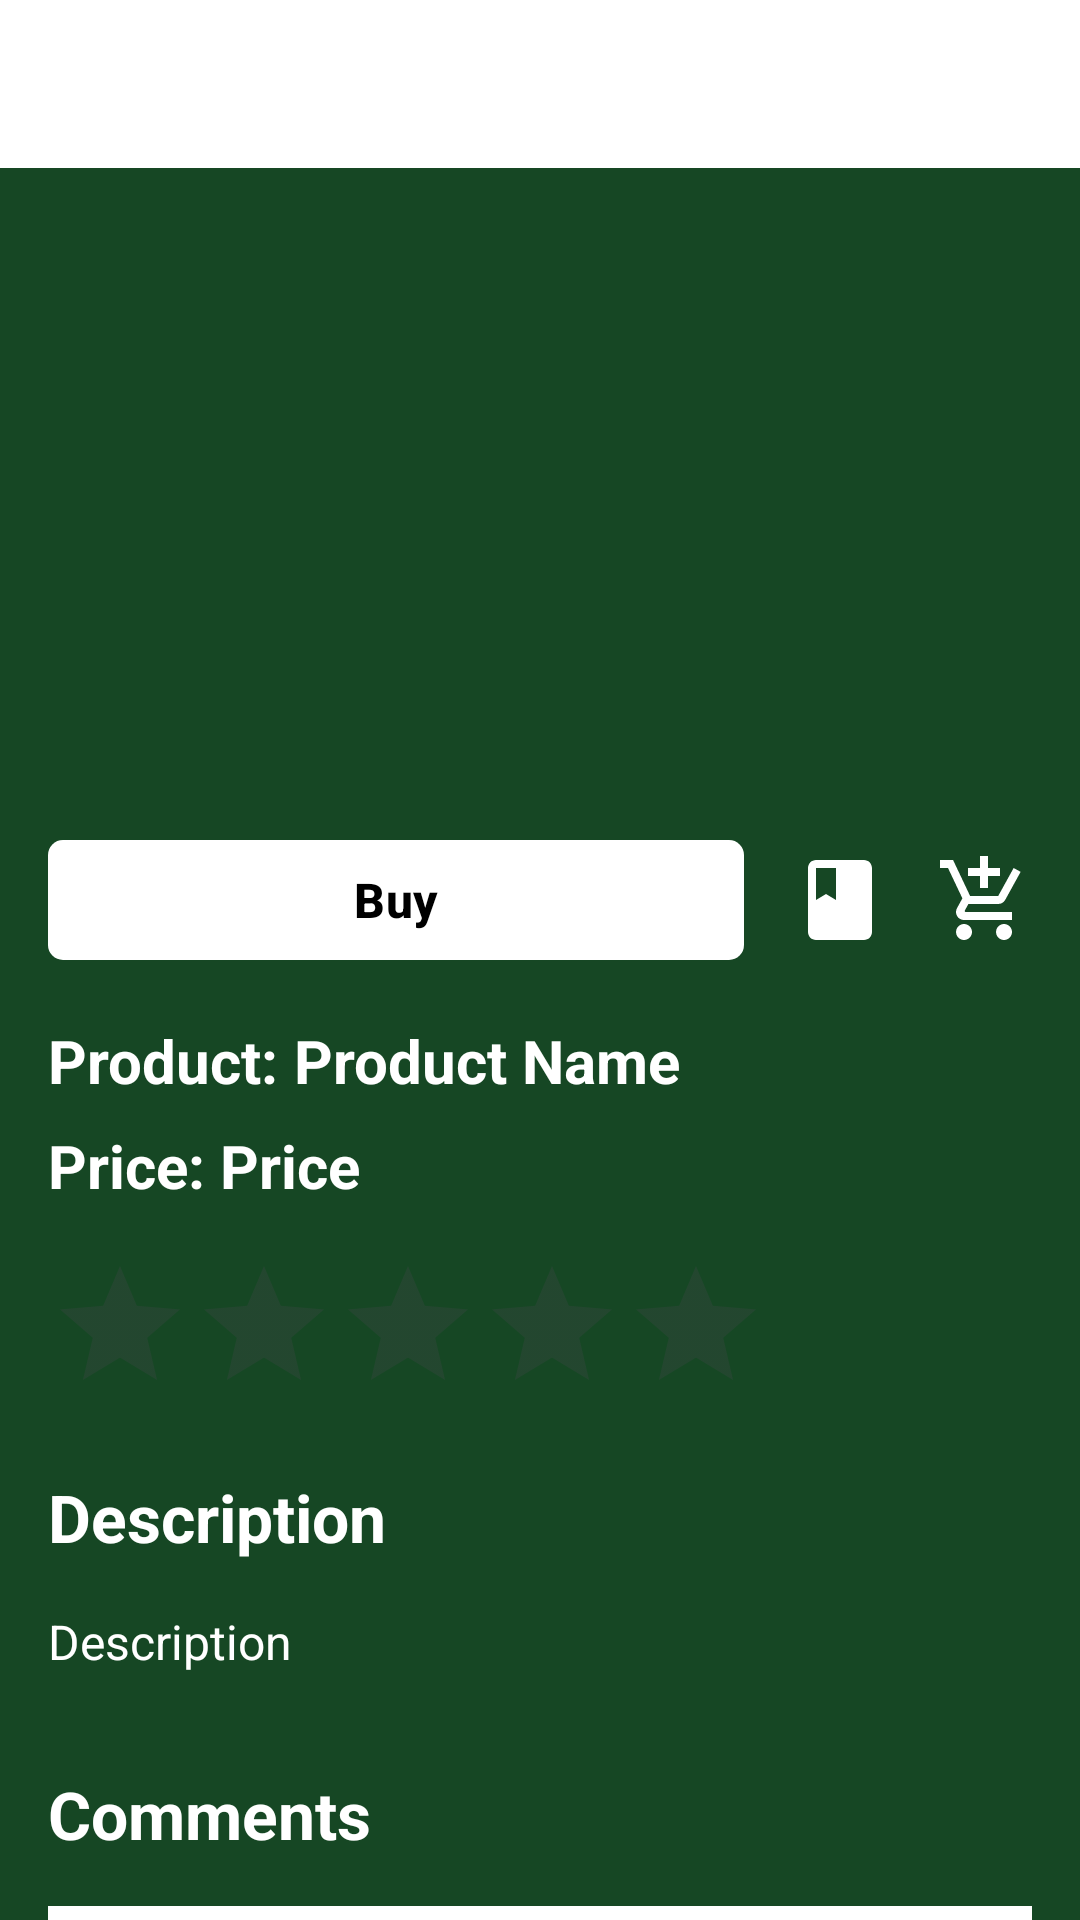

Icon bounding boxes for this 1080px×1920px phone screenshot, format (x1, y1, x2, y2):
Add to cart: (940, 856, 1021, 940)
